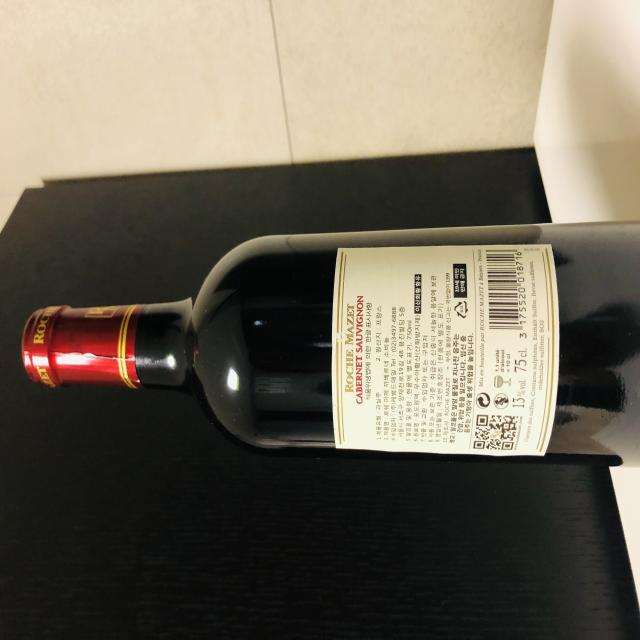Vidrio: (25, 220, 640, 466)
